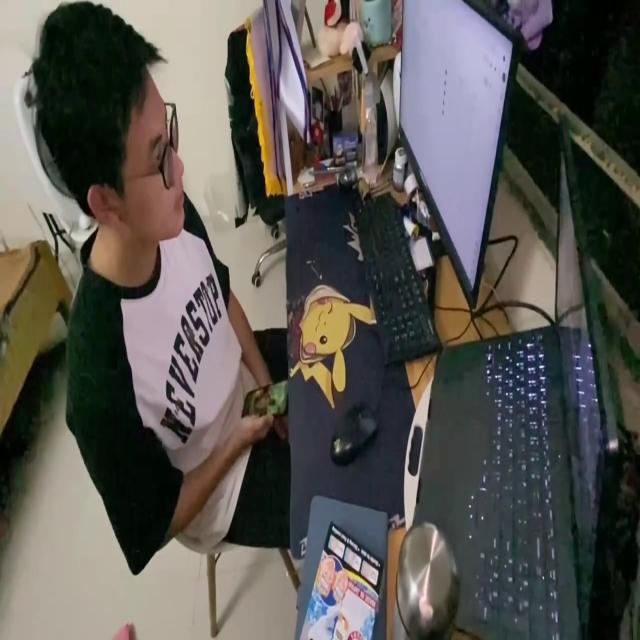laptop: (406, 111, 621, 640), (398, 0, 518, 311)
phone: (241, 372, 288, 428)
student: (32, 3, 292, 576)
